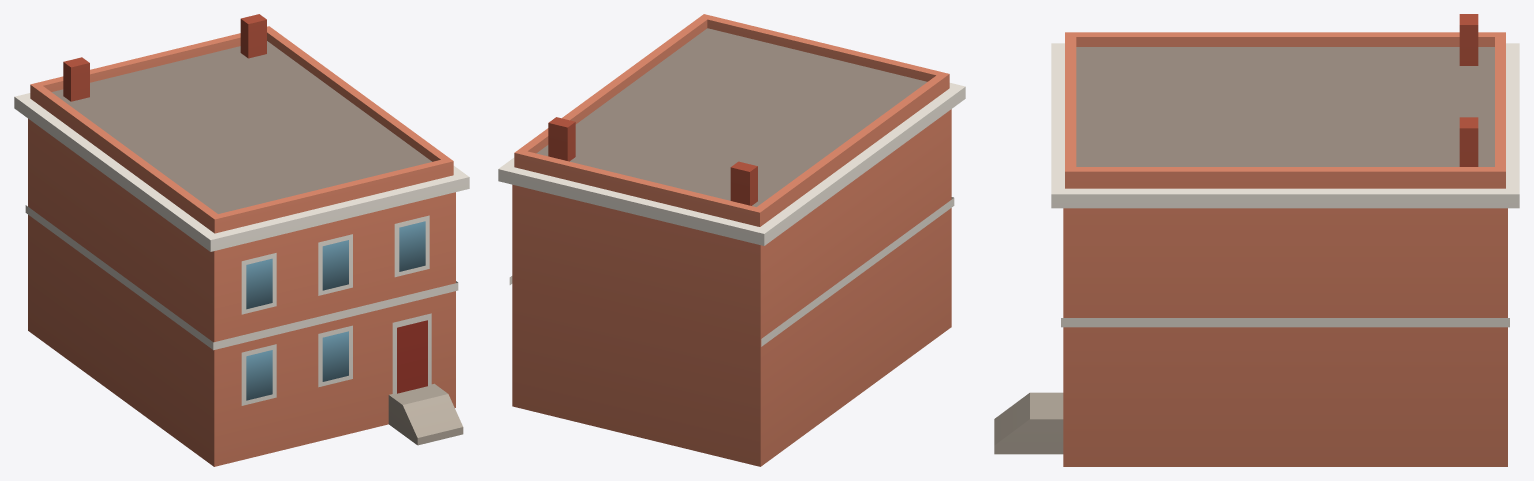
Rendered from beacon_ne3_far.glb.
3 views of the same model, side by side, from view 1: azimuth 30°, elevation 25°; view 2: azimuth 150°, elevation 25°; view 3: azimuth 270°, elevation 25° (orthographic). The views are drawn at different scales.
Parts seen in each view (by area): view 1: beacon_ne3_far; view 2: beacon_ne3_far; view 3: beacon_ne3_far.
Boxes of the visible parts, x1,y1,x2,y2 form: beacon_ne3_far: [14, 14, 469, 466]; beacon_ne3_far: [498, 14, 965, 466]; beacon_ne3_far: [994, 14, 1519, 466].
Size of the model in its own units: 9.64 by 9.69 by 14.18.
1 material, 1 textured.
